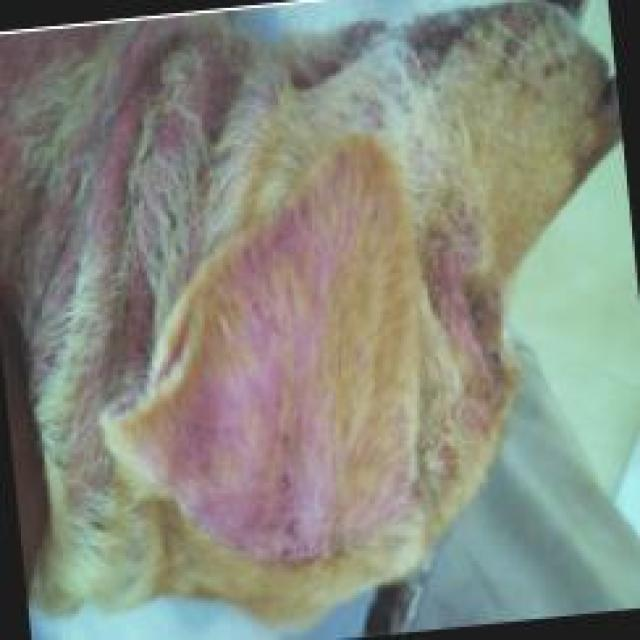allergic dermatitis: (164, 169, 342, 563), (50, 64, 152, 340), (0, 17, 110, 229), (124, 27, 238, 178), (434, 235, 484, 403), (312, 462, 412, 538)
